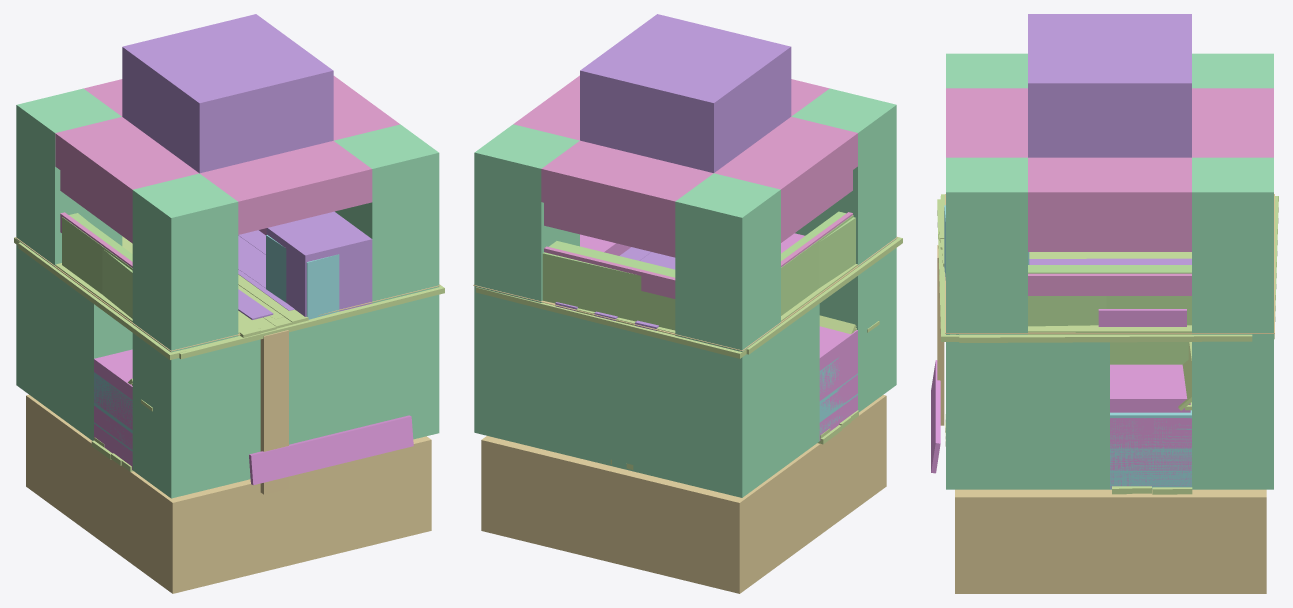
Rendered from crowsnest.glb.
The picture shows the model from 3 angles, left to right: view 1: azimuth 30°, elevation 25°; view 2: azimuth 150°, elevation 25°; view 3: azimuth 270°, elevation 25°; orthographic projection. The views are drawn at different scales.
Parts seen in each view (by area): view 1: S6|SM_Foundation_CrowsNest#0, S5|SM_Bunker_Roof_01A#0, S5|SM_HescoBarrier_Tall_Stage5_01a#3, S3|SM_HescoBarrier_Tall_Stage5_01a#5, S5|SM_HescoBarrier_Tall_Stage5_01a#5, S5|SM_HESCO_Stage5_01a#2, S5|SM_HescoBarrier_Tall_Stage5_01a#2, S3|SM_HescoBarrier_Tall_Stage5_01a#2, S5|SM_HESCO_Stage5_01a#1, S4|SM_HescoBarrier_Tall_Stage5_01a#9, S3|SM_HescoBarrier_Tall_Stage5_01a#3, S5|SM_HESCO_Stage5_01a#0 (+28 smaller); view 2: S6|SM_Foundation_CrowsNest#0, S5|SM_Bunker_Roof_01A#0, S5|SM_HescoBarrier_Tall_Stage5_01a#2, S3|SM_HescoBarrier_Tall_Stage5_01a#7, S5|SM_HescoBarrier_Tall_Stage5_01a#4, S5|SM_HESCO_Stage5_01a#3, S3|SM_HescoBarrier_Tall_Stage5_01a#0, S3|SM_HescoBarrier_Tall_Stage5_01a#9, S3|SM_HescoBarrier_Tall_Stage5_01a#8, S5|SM_HescoBarrier_Tall_Stage5_01a#3, S4|SM_HescoBarrier_Tall_Stage5_01a#3, S5|SM_HESCO_Stage5_01a#4 (+19 smaller); view 3: S6|SM_Foundation_CrowsNest#0, S5|SM_Bunker_Roof_01A#0, S5|SM_HescoBarrier_Tall_Stage5_01a#4, S5|SM_HescoBarrier_Tall_Stage5_01a#5, S3|SM_HescoBarrier_Tall_Stage5_01a#0, S3|SM_HescoBarrier_Tall_Stage5_01a#1, S3|SM_HescoBarrier_Tall_Stage5_01a#2, S5|SM_HESCO_Stage5_01a#1, S5|SM_HESCO_Stage5_01a#4, S4|SM_HescoBarrier_Tall_Stage5_01a#6, S4|SM_HescoBarrier_Tall_Stage5_01a#8, S4|SM_HescoBarrier_Tall_Stage5_01a#7 (+21 smaller).
Part boxes in pixels (bbox=[...]): S6|SM_Foundation_CrowsNest#0: bbox=[26, 394, 431, 593]; S5|SM_Bunker_Roof_01A#0: bbox=[55, 76, 399, 267]; S5|SM_HescoBarrier_Tall_Stage5_01a#3: bbox=[132, 173, 238, 352]; S3|SM_HescoBarrier_Tall_Stage5_01a#5: bbox=[132, 333, 238, 498]; S5|SM_HescoBarrier_Tall_Stage5_01a#5: bbox=[334, 124, 439, 303]; S5|SM_HESCO_Stage5_01a#2: bbox=[161, 58, 266, 173]; S5|SM_HescoBarrier_Tall_Stage5_01a#2: bbox=[16, 88, 122, 267]; S3|SM_HescoBarrier_Tall_Stage5_01a#2: bbox=[372, 294, 439, 439]; S5|SM_HESCO_Stage5_01a#1: bbox=[228, 42, 333, 156]; S4|SM_HescoBarrier_Tall_Stage5_01a#9: bbox=[305, 311, 372, 439]; S3|SM_HescoBarrier_Tall_Stage5_01a#3: bbox=[305, 312, 372, 440]; S5|SM_HESCO_Stage5_01a#0: bbox=[266, 211, 372, 316]; S6|SM_Foundation_CrowsNest#0: bbox=[481, 395, 886, 593]; S5|SM_Bunker_Roof_01A#0: bbox=[513, 75, 857, 298]; S5|SM_HescoBarrier_Tall_Stage5_01a#2: bbox=[675, 173, 780, 357]; S3|SM_HescoBarrier_Tall_Stage5_01a#7: bbox=[675, 332, 780, 497]; S5|SM_HescoBarrier_Tall_Stage5_01a#4: bbox=[474, 124, 579, 302]; S5|SM_HESCO_Stage5_01a#3: bbox=[647, 58, 752, 172]; S3|SM_HescoBarrier_Tall_Stage5_01a#0: bbox=[474, 292, 541, 448]; S3|SM_HescoBarrier_Tall_Stage5_01a#9: bbox=[541, 309, 608, 465]; S3|SM_HescoBarrier_Tall_Stage5_01a#8: bbox=[608, 326, 675, 481]; S5|SM_HescoBarrier_Tall_Stage5_01a#3: bbox=[791, 88, 896, 266]; S4|SM_HescoBarrier_Tall_Stage5_01a#3: bbox=[675, 334, 778, 497]; S5|SM_HESCO_Stage5_01a#4: bbox=[580, 42, 685, 156]; S6|SM_Foundation_CrowsNest#0: bbox=[955, 489, 1266, 593]; S5|SM_Bunker_Roof_01A#0: bbox=[946, 88, 1273, 295]; S5|SM_HescoBarrier_Tall_Stage5_01a#4: bbox=[1192, 157, 1273, 340]; S5|SM_HescoBarrier_Tall_Stage5_01a#5: bbox=[946, 157, 1027, 334]; S3|SM_HescoBarrier_Tall_Stage5_01a#0: bbox=[1192, 341, 1273, 489]; S3|SM_HescoBarrier_Tall_Stage5_01a#1: bbox=[1028, 342, 1109, 489]; S3|SM_HescoBarrier_Tall_Stage5_01a#2: bbox=[946, 342, 1027, 489]; S5|SM_HESCO_Stage5_01a#1: bbox=[1028, 48, 1109, 157]; S5|SM_HESCO_Stage5_01a#4: bbox=[1110, 48, 1191, 157]; S4|SM_HescoBarrier_Tall_Stage5_01a#6: bbox=[1192, 341, 1273, 489]; S4|SM_HescoBarrier_Tall_Stage5_01a#8: bbox=[946, 342, 1027, 489]; S4|SM_HescoBarrier_Tall_Stage5_01a#7: bbox=[1028, 342, 1109, 489].
Size of the model in its own units: 6.21 by 9.64 by 6.36.
